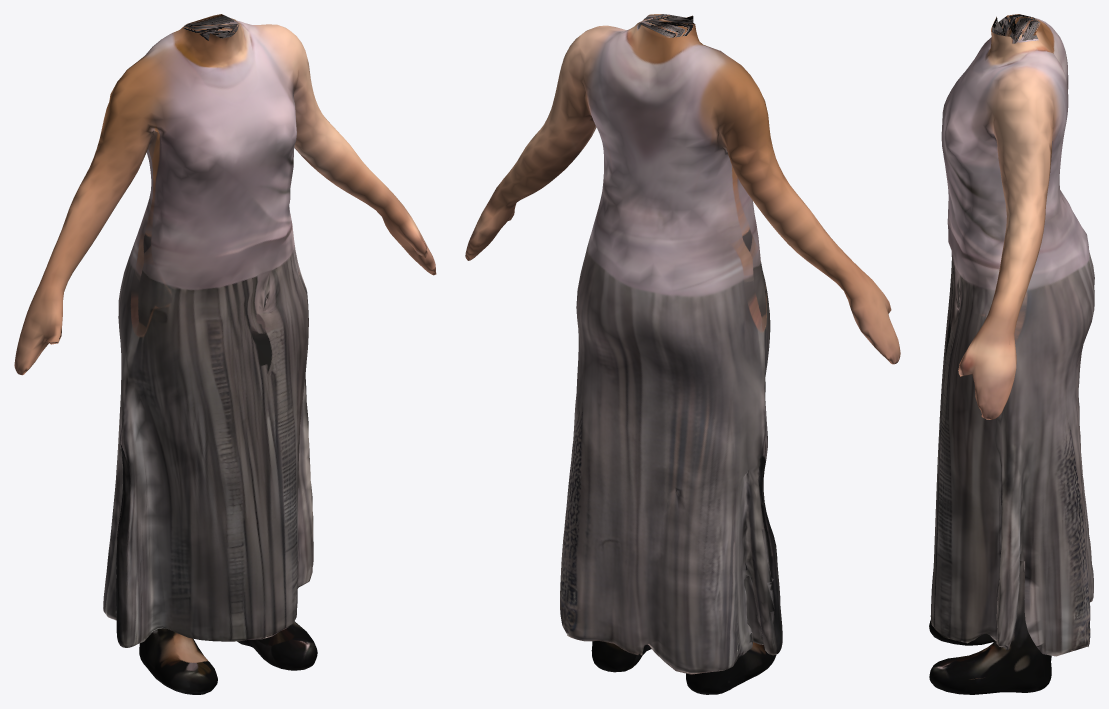
The picture shows the model from 3 angles, left to right: view 1: azimuth 30°, elevation 25°; view 2: azimuth 150°, elevation 25°; view 3: azimuth 270°, elevation 25°; orthographic projection. The views are drawn at different scales.
Visible parts, largest first — view 1: base; view 2: base; view 3: base.
Boxes of the visible parts, left/top/right/bottom form: base: left=14, top=14, right=436, bottom=694; base: left=465, top=14, right=900, bottom=694; base: left=929, top=14, right=1094, bottom=694.
Bounding box in the file's own units: 1.14 × 1.65 × 0.3872.
Materials: 1 (1 with a texture image).
